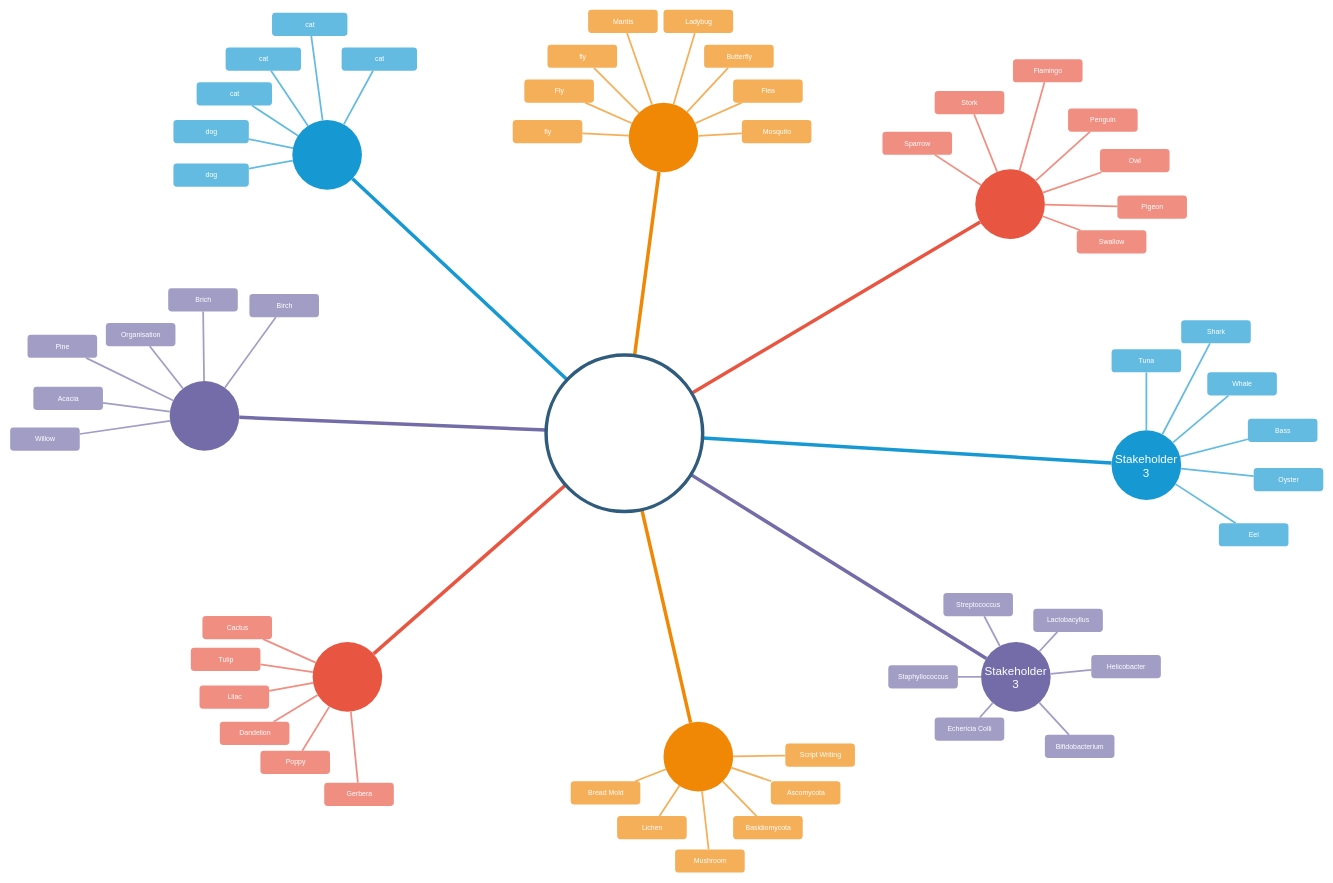
The diagram is 1333 pixels wide and 883 high, and some of its shapes have lost their labels. The shapes that lost their labels are listed below. From the top down, each one's centre as x and y in pixels, then its label:
At point 327,154: "Stakeholder 6".
At point 663,137: "Stakeholder 5".
At point 1010,204: "Stakeholder 4".
At point 204,415: "Stakeholder 7".
At point 624,433: "Stakeholders".
At point 347,676: "Stakeholder 1".
At point 698,756: "Stakeholder 2".
